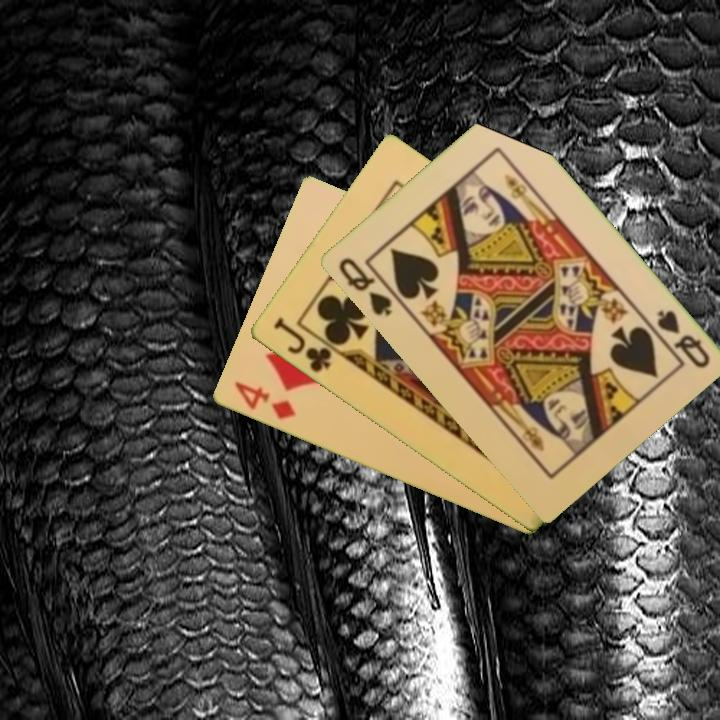4d: (230, 378, 299, 423)
Jc: (269, 313, 334, 376)
Qs: (334, 253, 394, 320), (653, 306, 713, 371)
